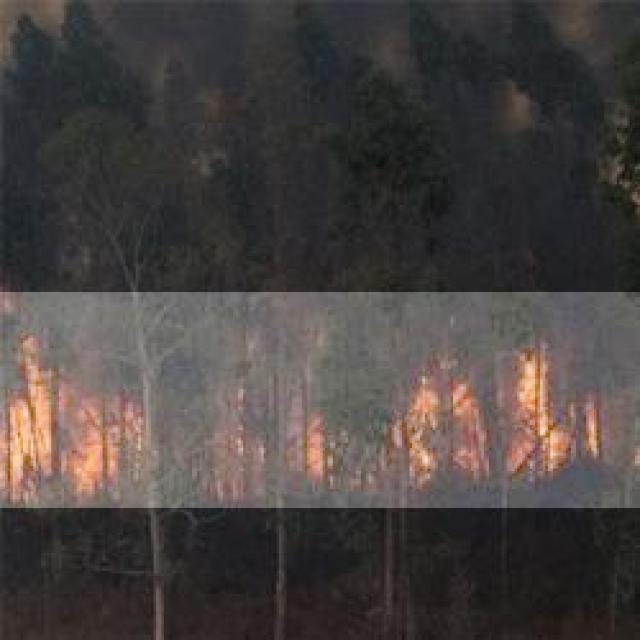Fire: (0, 292, 640, 508)
